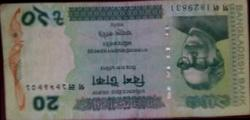20 taka: (0, 5, 250, 117)
